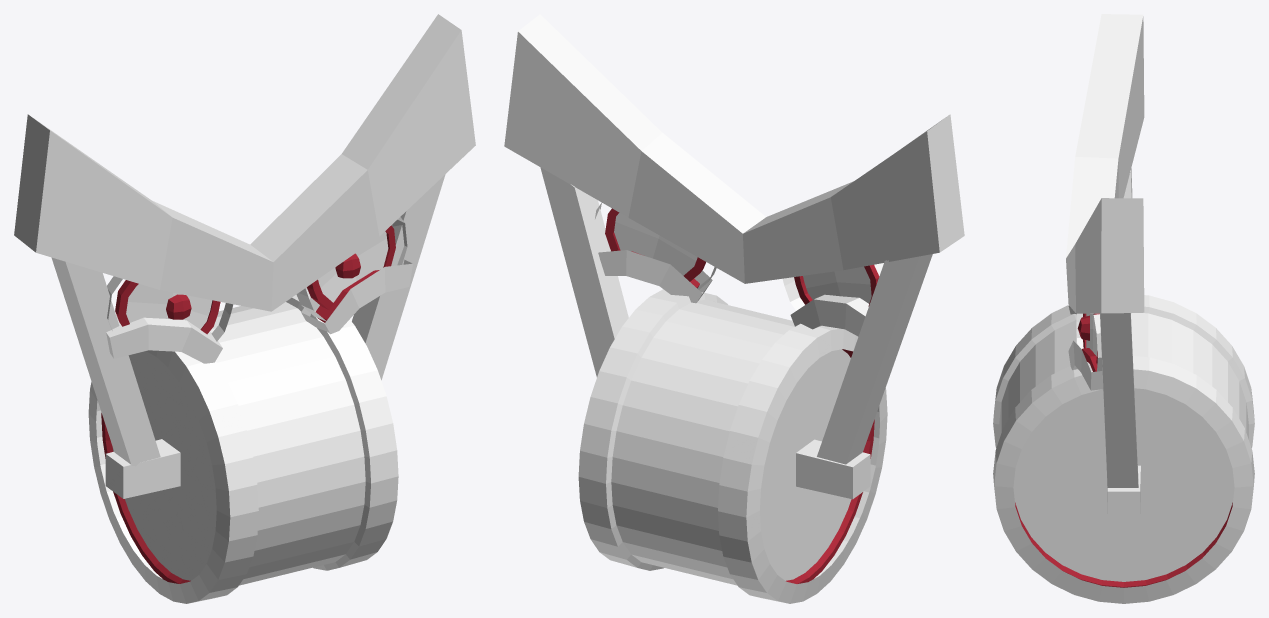
The model's file is LD51DrumEnemy.fbx.
3 views of the same model, side by side, from view 1: azimuth 30°, elevation 25°; view 2: azimuth 150°, elevation 25°; view 3: azimuth 270°, elevation 25° (orthographic). The views are drawn at different scales.
Visible parts, largest first — view 1: Drum_EnemyOutline, Drum.Enemy, Drum.EnemyEyes; view 2: Drum_EnemyOutline, Drum.Enemy, Drum.EnemyEyes; view 3: Drum_EnemyOutline, Drum.Enemy, Drum.EnemyEyes.
Boxes of the visible parts, x1,y1,x2,y2 form: Drum_EnemyOutline: (14, 14, 475, 603); Drum.Enemy: (101, 351, 216, 583); Drum.EnemyEyes: (115, 225, 395, 334); Drum_EnemyOutline: (504, 14, 964, 603); Drum.Enemy: (760, 349, 874, 583); Drum.EnemyEyes: (605, 208, 879, 306); Drum_EnemyOutline: (993, 14, 1254, 603); Drum.Enemy: (1013, 388, 1234, 587); Drum.EnemyEyes: (1077, 313, 1099, 371).
Bounding box in the file's own units: 617 × 347 × 674.
